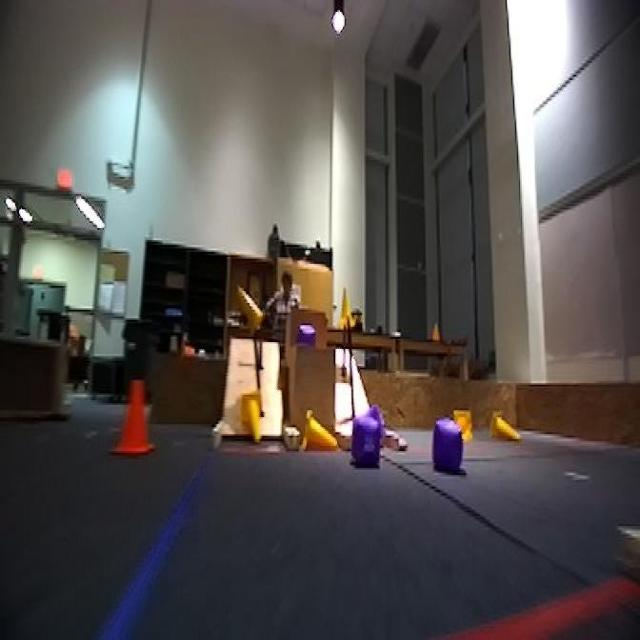frc_cone: (231, 281, 265, 337), (239, 390, 266, 448), (305, 410, 337, 450), (488, 410, 522, 446), (341, 291, 357, 332), (454, 408, 472, 438)
frc_cube: (433, 421, 463, 466), (352, 420, 379, 463), (296, 325, 319, 347)
